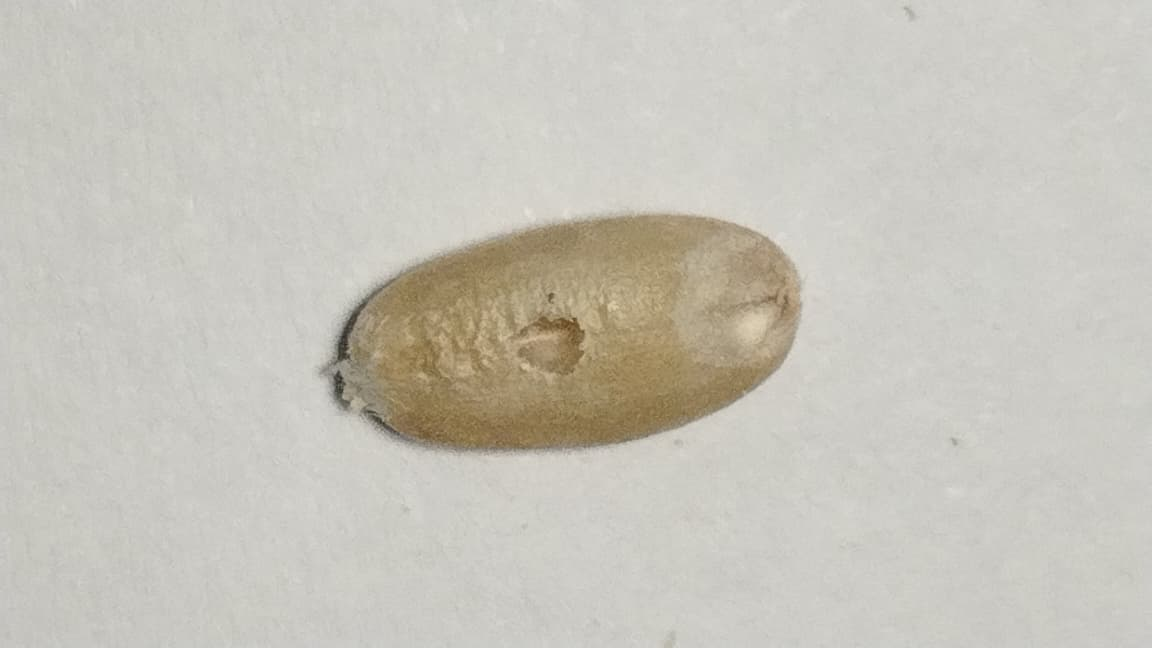damage: (338, 214, 800, 449)
insectdamage: (481, 293, 617, 394)
